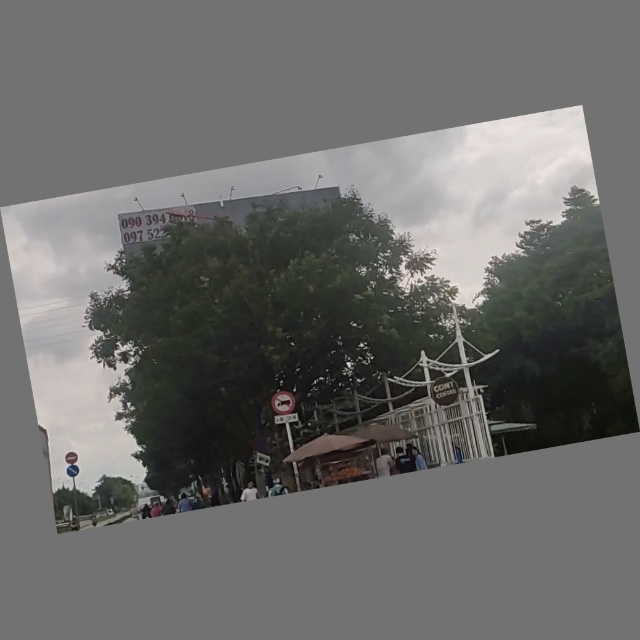B.8a: (271, 391, 299, 426)
P.102: (62, 451, 80, 467)
R.302a: (66, 465, 82, 480)
